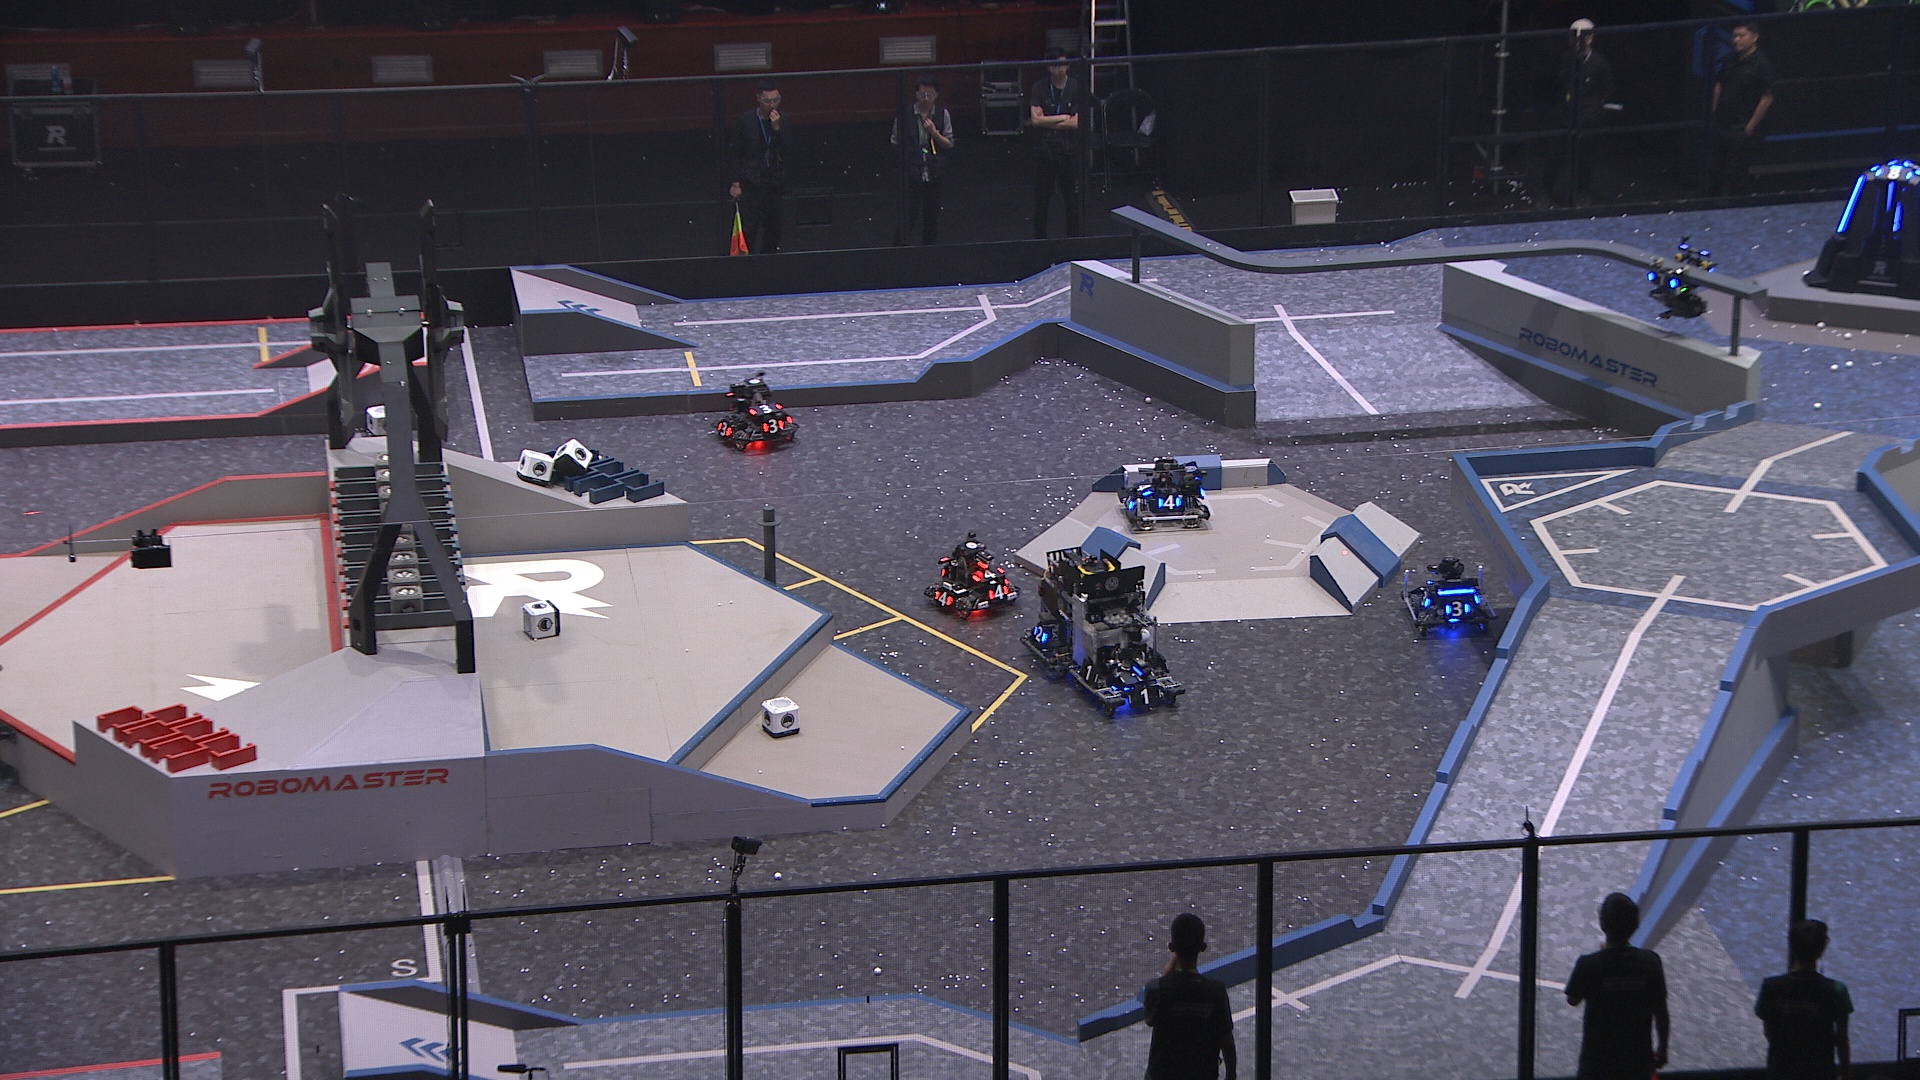armor: (1836, 173, 1865, 233), (1643, 268, 1677, 290), (972, 566, 1006, 585), (1127, 688, 1163, 707), (1873, 166, 1917, 181), (1120, 669, 1155, 684), (1073, 662, 1100, 683), (1447, 599, 1472, 618), (931, 589, 955, 609), (1154, 495, 1183, 510), (1884, 181, 1898, 214), (986, 585, 1011, 603), (750, 400, 779, 414), (713, 419, 733, 439), (1135, 476, 1153, 498), (761, 418, 785, 434), (1415, 588, 1432, 609), (1030, 626, 1048, 644), (1124, 495, 1138, 514)
base: (1803, 154, 1920, 299)
car: (1064, 566, 1188, 711), (1022, 541, 1120, 673), (920, 533, 1021, 621), (1403, 556, 1498, 637), (711, 373, 799, 455), (1120, 456, 1212, 531)
watcher: (1642, 239, 1716, 319)
